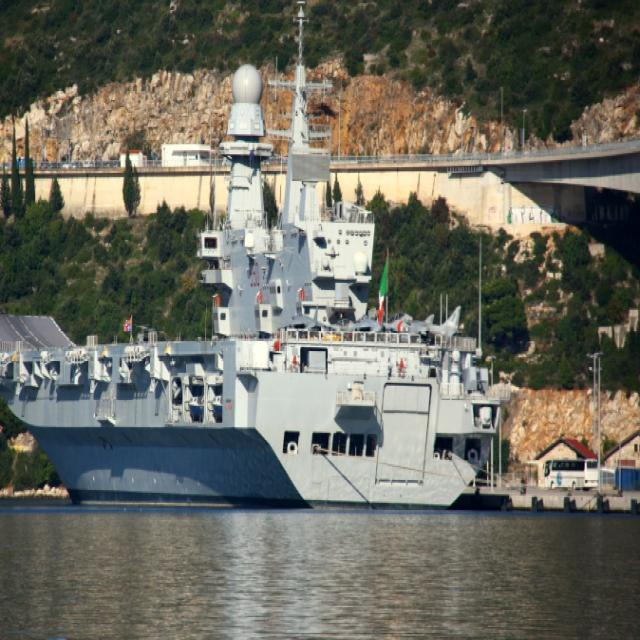Portanaves: (1, 1, 514, 510)
